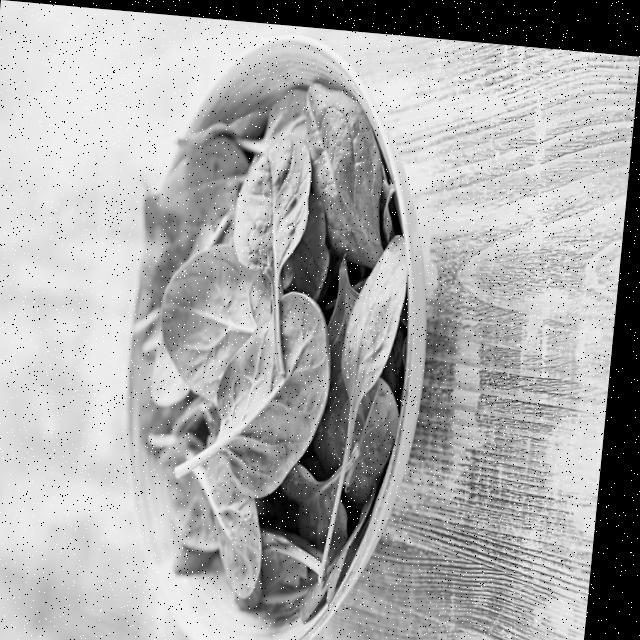Spinach: (103, 62, 442, 633)
